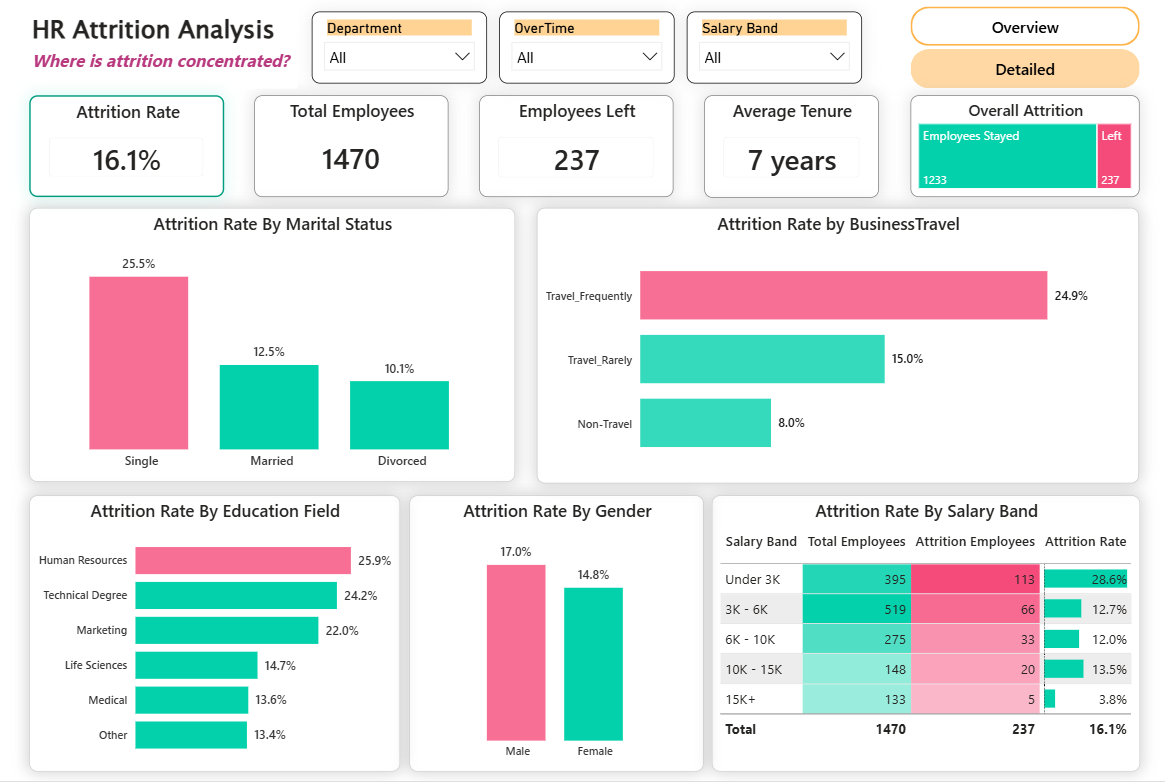

Layout of this report page (visuals, bound fields, positions):
{"tool":"powerbi","page":{"name":"Detailed Breakdown","canvas":[1280,860],"ordinal":1},"visuals":[{"type":"cardVisual","title":"Total Employees","fields":{"Data":["Measures Table.Total Employees"]},"box":[276.9,105.5,213.6,112],"z":0},{"type":"cardVisual","title":"Employees Left","fields":{"Data":["Measures Table.Attrition Employees"]},"box":[524.3,105.5,213.6,112],"z":2000},{"type":"cardVisual","title":"Average Tenure","fields":{"Data":["Measures Table.Average Tenure"]},"box":[771.7,105.2,192.3,112.5],"z":3000},{"type":"columnChart","title":"Attrition Rate By Gender","fields":{"Category":["hrattrition.Gender"],"Y":["Measures Table.Attrition Rate"]},"box":[446.7,546.1,324.2,304.1],"z":4000},{"type":"columnChart","title":"Attrition Rate By Marital Status","fields":{"Category":["hrattrition.MaritalStatus"],"Y":["Measures Table.Attrition Rate"]},"box":[29.3,230.1,534.1,301.9],"z":6000},{"type":"tableEx","title":"Attrition Rate By Salary Band","fields":{"Values":["hrattrition.SalaryBand","Measures Table.Total Employees","Measures Table.Attrition Employees","Measures Table.Attrition Rate"]},"box":[779.6,546.1,471.2,304.1],"z":7000},{"type":"barChart","fields":{"Category":["hrattrition.BusinessTravel"],"Y":["Measures Table.Attrition Rate"]},"box":[587.6,230.1,662.3,303.4],"z":8000},{"type":"barChart","title":"Attrition Rate By Education Field","fields":{"Category":["hrattrition.EducationField"],"Y":["Measures Table.Attrition Rate"]},"box":[28.8,546.1,407.8,304.1],"z":9000},{"type":"slicer","fields":{"Values":["hrattrition.Department"]},"box":[340.1,13.4,193.1,79.3],"z":10000},{"type":"slicer","fields":{"Values":["hrattrition.OverTime"]},"box":[546.1,13.4,193.1,79.3],"z":11000},{"type":"slicer","fields":{"Values":["hrattrition.Salary Band"]},"box":[752.2,13.4,193.1,79.3],"z":12000},{"type":"actionButton","box":[998.6,8.6,252.2,43.2],"z":13000},{"type":"actionButton","box":[998.6,54.8,252.2,43.2],"z":14000},{"type":"textbox","box":[7.2,8.6,317,90.8],"z":15000},{"type":"cardVisual","title":"Attrition Rate","fields":{"Data":["Measures Table.Attrition Rate"]},"box":[28.7,105.5,214.4,112],"z":15001},{"type":"treemap","title":"Overall Attrition","fields":{"Values":["Measures Table.Employees Stayed","Measures Table.Attrition Employees"]},"box":[997.8,105.5,252.1,112],"z":15002}]}

Visuals, with their boxes in screenshot pixels (x1, y1, x2, y2), scaled from the page's 1280x860 canvas onto the 1165x782 screenshot:
"Total Employees" cardVisual: (left=252, top=96, right=446, bottom=198)
"Employees Left" cardVisual: (left=477, top=96, right=672, bottom=198)
"Average Tenure" cardVisual: (left=702, top=96, right=877, bottom=198)
"Attrition Rate By Gender" columnChart: (left=407, top=497, right=702, bottom=773)
"Attrition Rate By Marital Status" columnChart: (left=27, top=209, right=513, bottom=484)
"Attrition Rate By Salary Band" tableEx: (left=710, top=497, right=1138, bottom=773)
barChart - hrattrition.BusinessTravel x Measures Table.Attrition Rate: (left=535, top=209, right=1138, bottom=485)
"Attrition Rate By Education Field" barChart: (left=26, top=497, right=397, bottom=773)
slicer - hrattrition.Department: (left=310, top=12, right=485, bottom=84)
slicer - hrattrition.OverTime: (left=497, top=12, right=673, bottom=84)
slicer - hrattrition.Salary Band: (left=685, top=12, right=860, bottom=84)
actionButton: (left=909, top=8, right=1138, bottom=47)
actionButton: (left=909, top=50, right=1138, bottom=89)
textbox: (left=7, top=8, right=295, bottom=90)
"Attrition Rate" cardVisual: (left=26, top=96, right=221, bottom=198)
"Overall Attrition" treemap: (left=908, top=96, right=1138, bottom=198)
